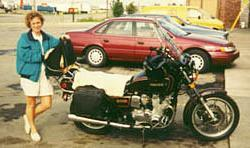Car: (63, 15, 243, 75)
motorcycle: (55, 34, 241, 143)
